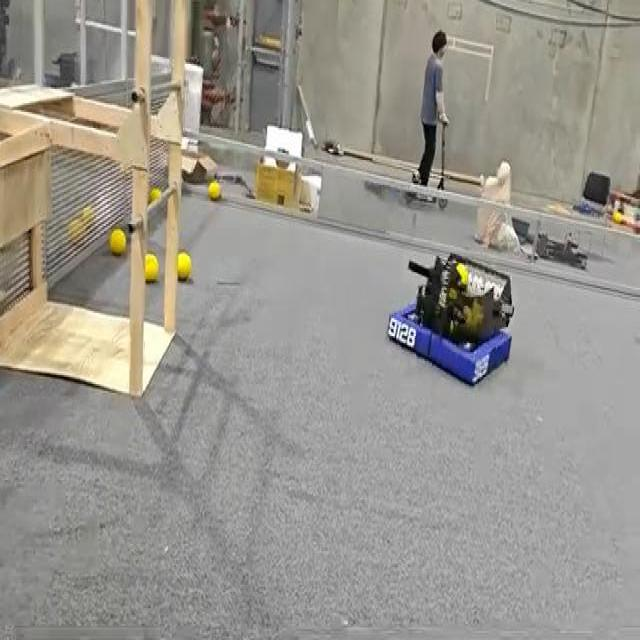Fuel: (109, 229, 127, 256), (110, 229, 126, 255), (144, 253, 159, 280), (145, 252, 158, 281), (177, 253, 191, 279), (68, 218, 83, 242), (208, 180, 220, 199), (208, 181, 220, 200), (148, 188, 161, 202), (612, 210, 623, 224), (613, 210, 623, 224)
